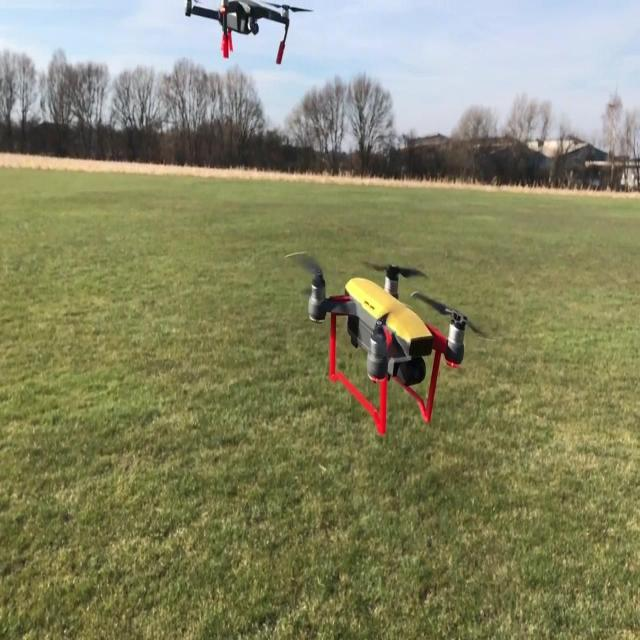UAV: (284, 252, 488, 436), (185, 0, 315, 66)
